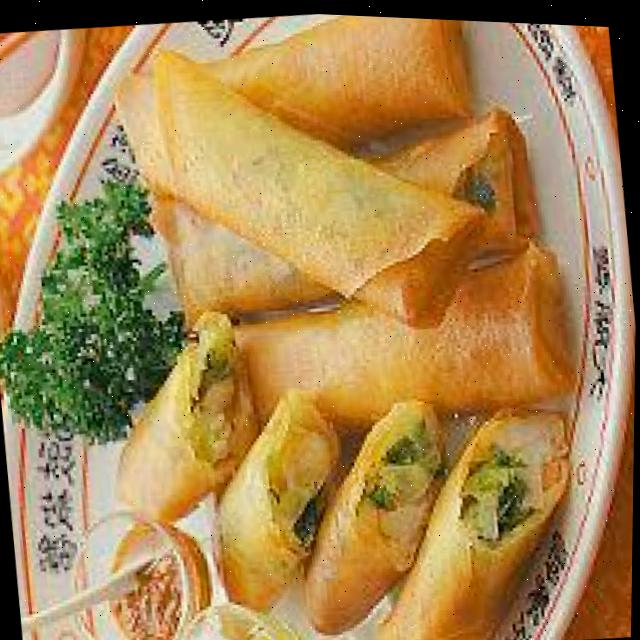鸡蛋料理: (75, 3, 618, 640)
